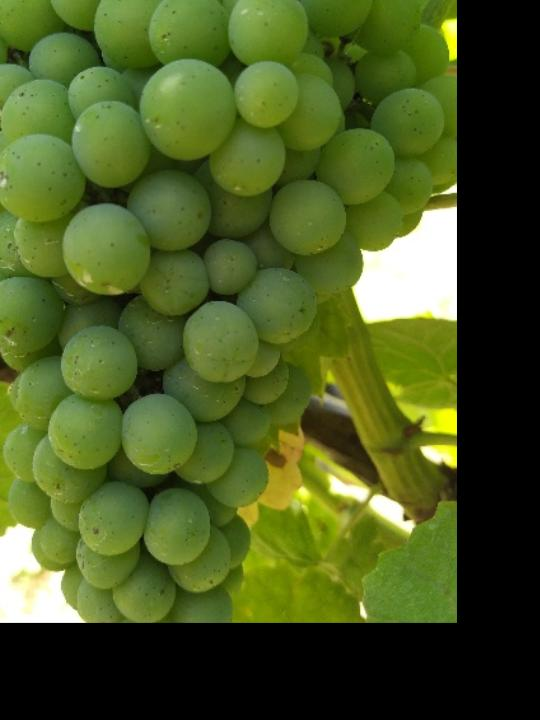grape: (0, 0, 480, 678)
